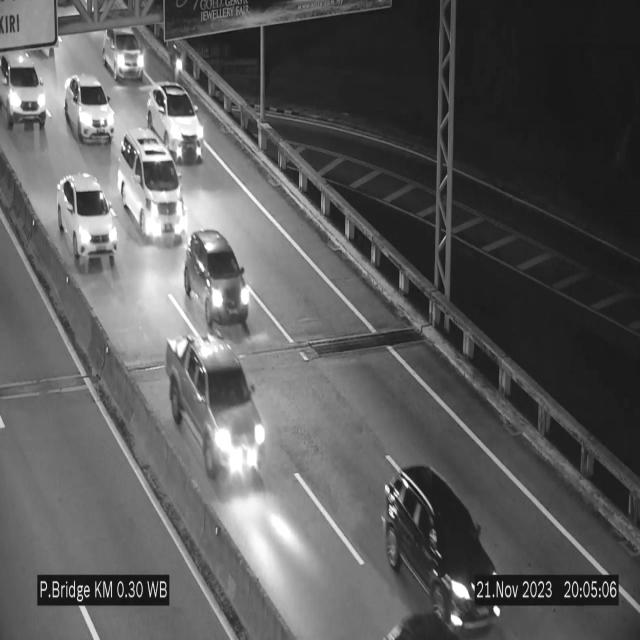Car: (367, 443, 504, 638), (164, 335, 265, 490), (116, 130, 186, 242), (182, 228, 253, 330), (57, 174, 116, 272), (146, 82, 204, 162), (0, 47, 48, 133), (97, 16, 151, 87), (64, 75, 114, 144)
Motorcycle: (170, 38, 186, 94)
